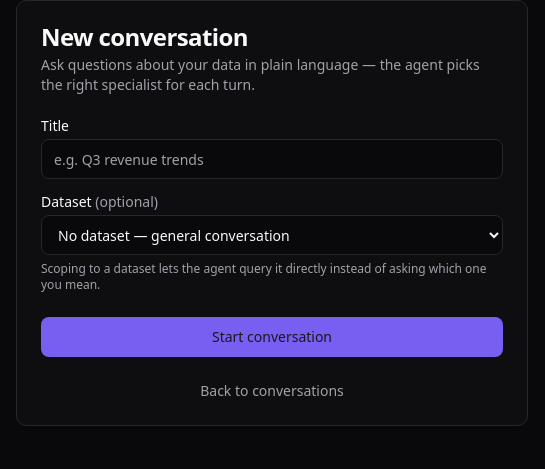
it: NewConversationPage › rejects submission with no title
Click the button "Start conversation". click: (272,337)
box: [41,317,503,357]
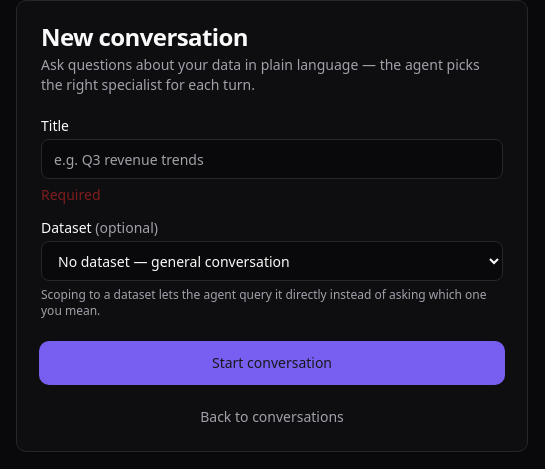
Expected: the text "Required" is shown, [41,185,100,204]
